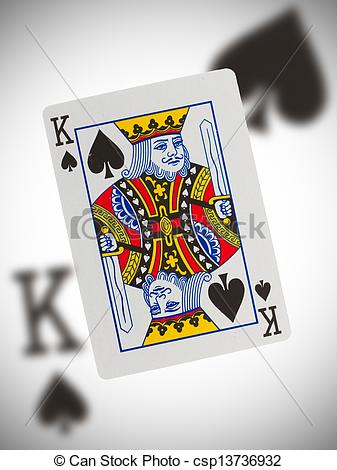king of spades: (38, 67, 289, 381)
